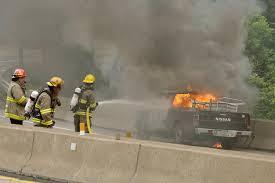fire: (171, 81, 221, 111), (211, 134, 228, 149)
